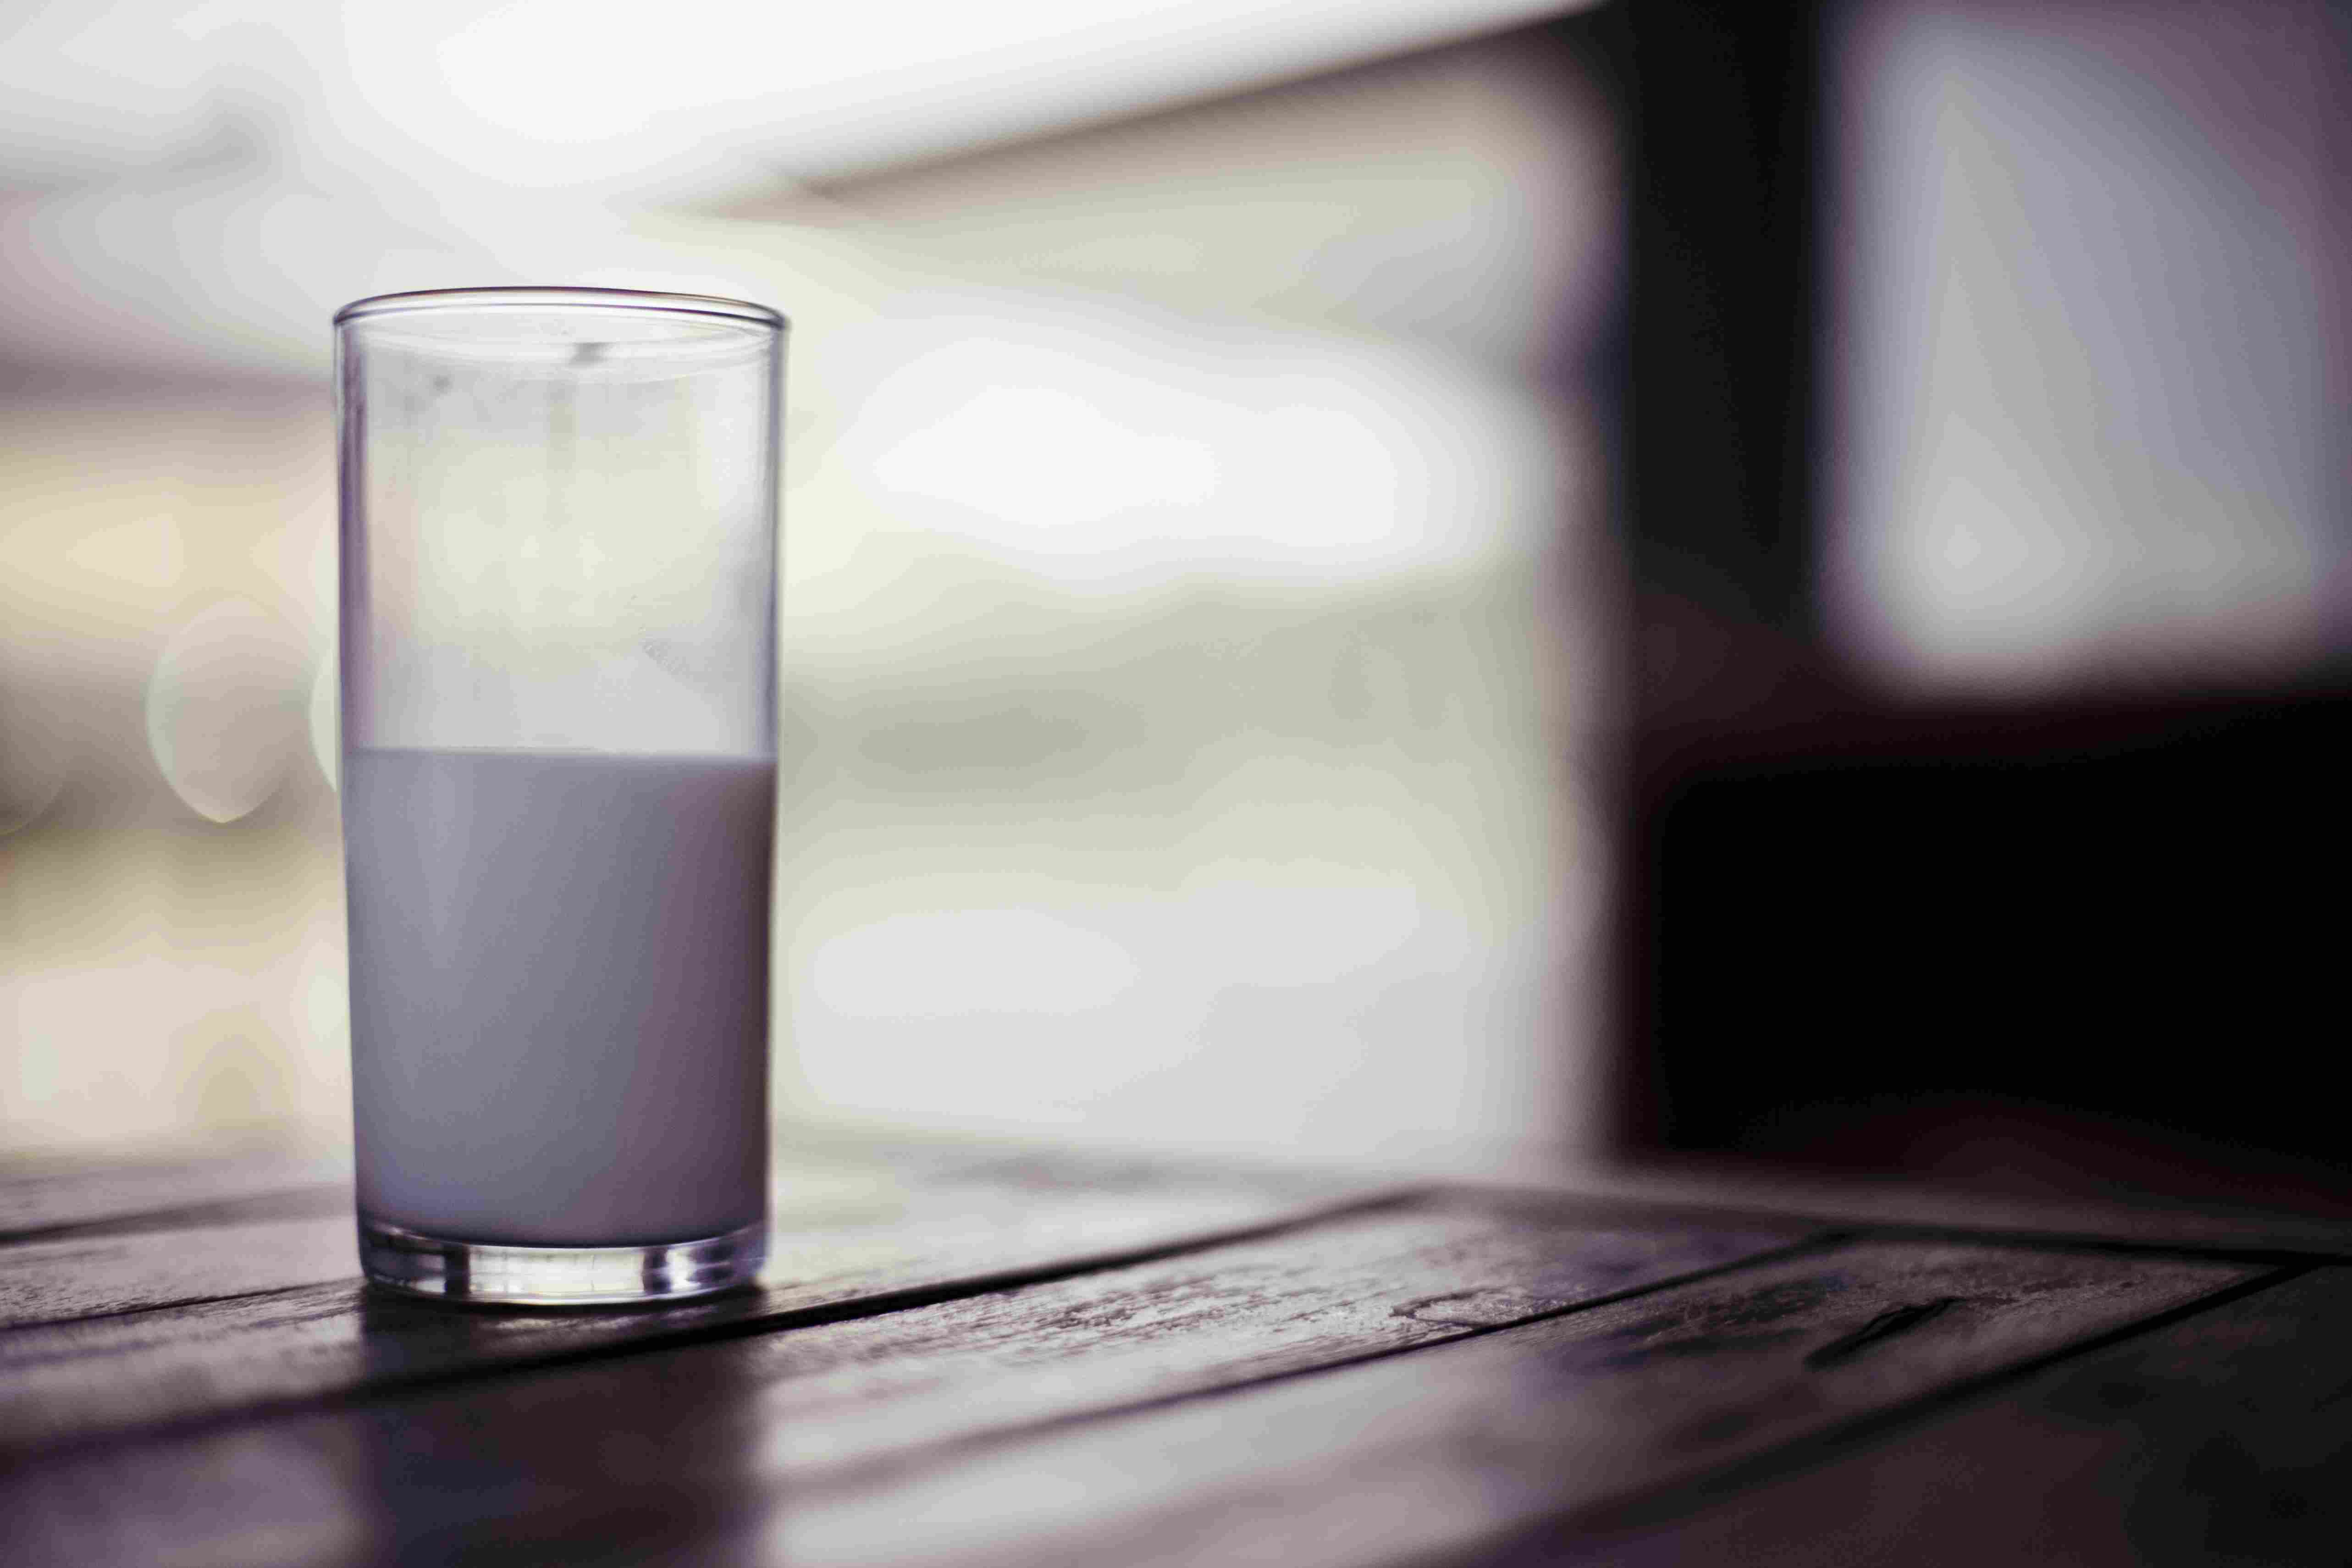glass of milk: (324, 285, 796, 1328)
